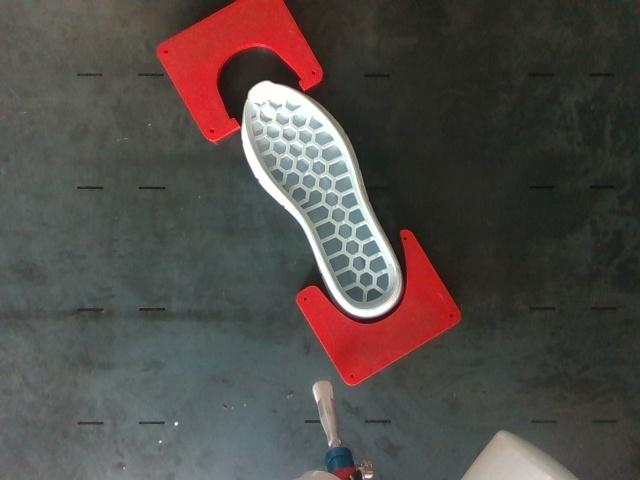shoes: (244, 82, 400, 311)
